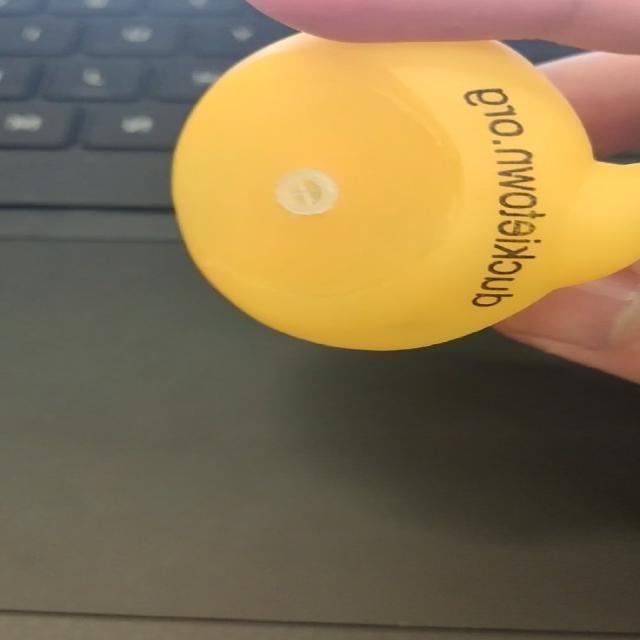rubber-duck: (171, 33, 638, 348)
